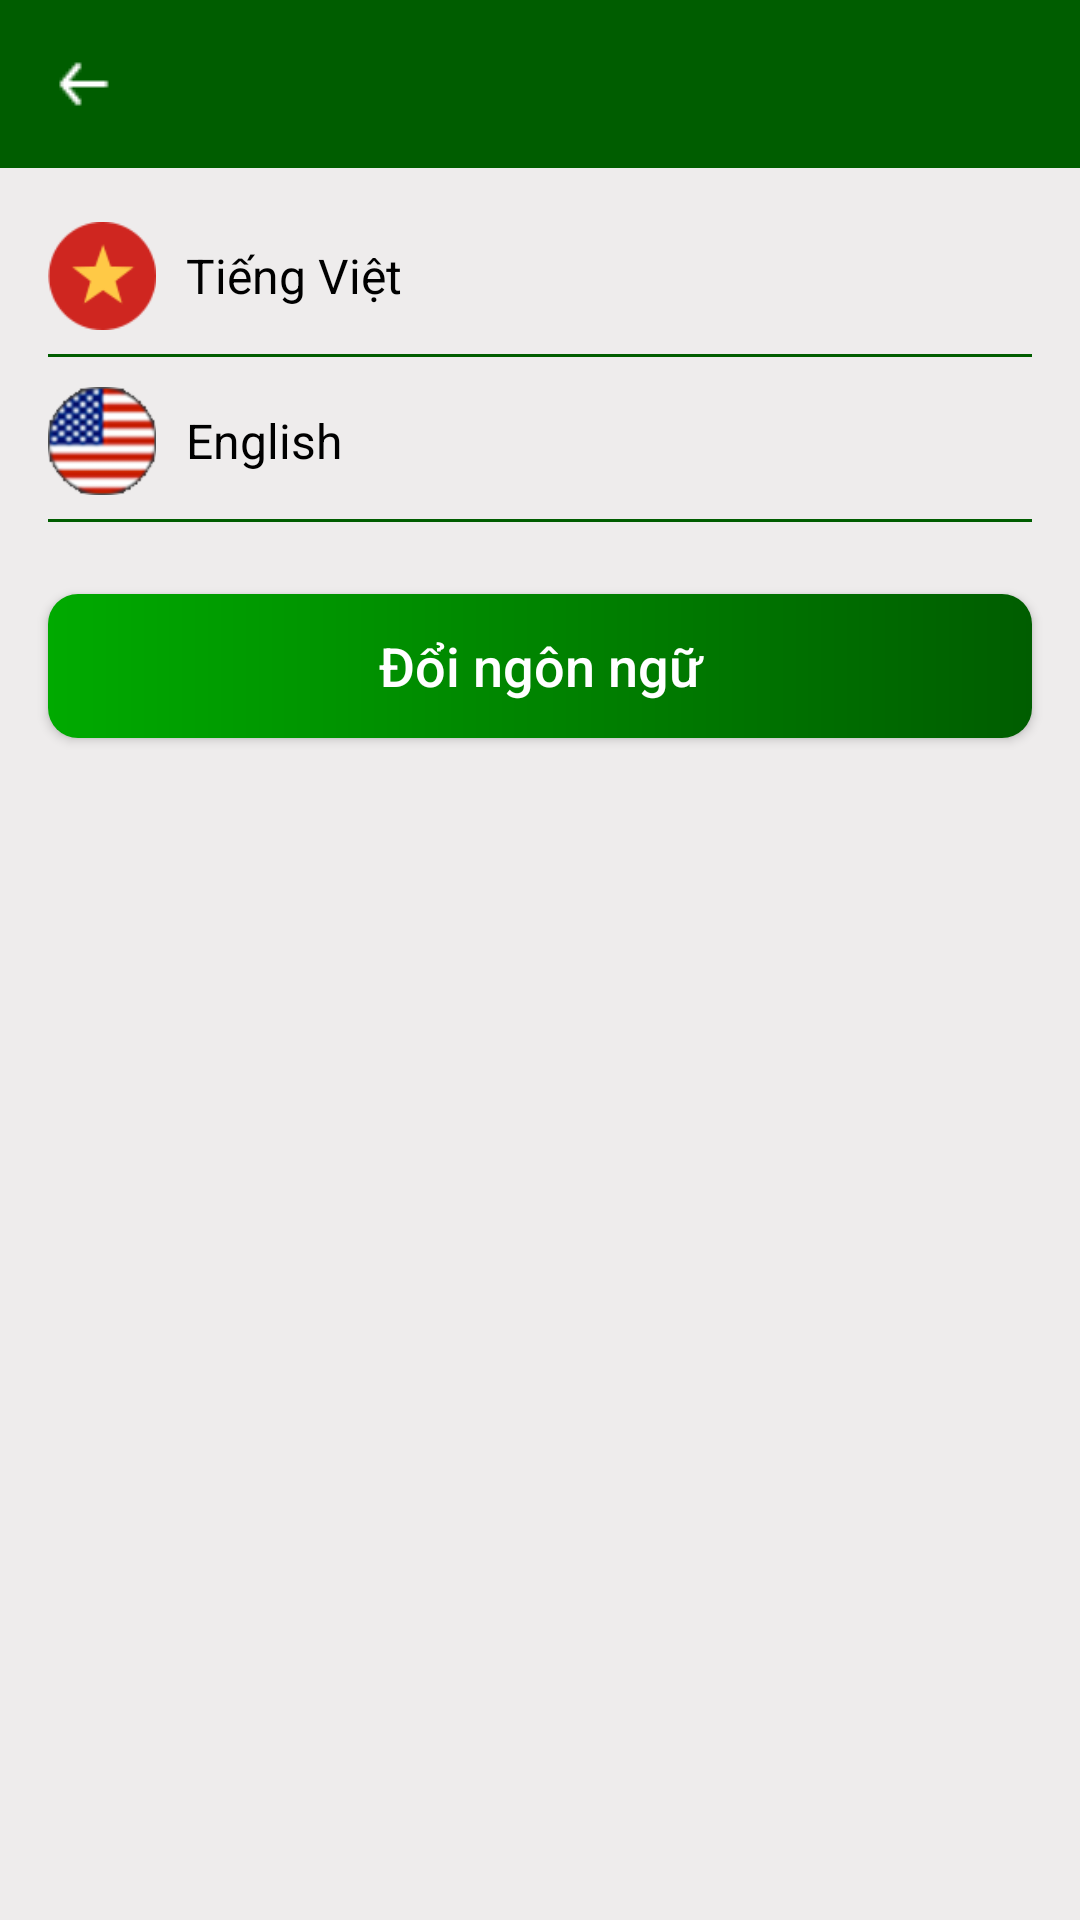

Named icons in this screenshot (1080 × 1920) and their centers, [x,y]:
vietnam: [102,276]
